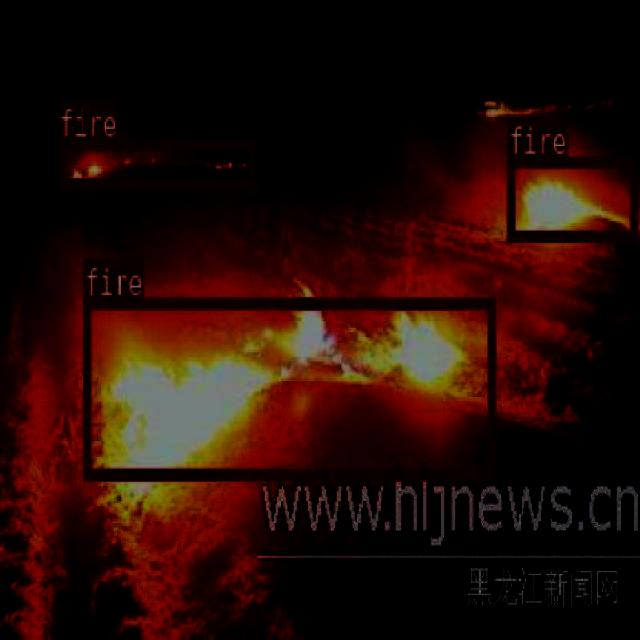fire: (83, 296, 494, 478), (507, 154, 636, 238), (56, 138, 255, 190)
